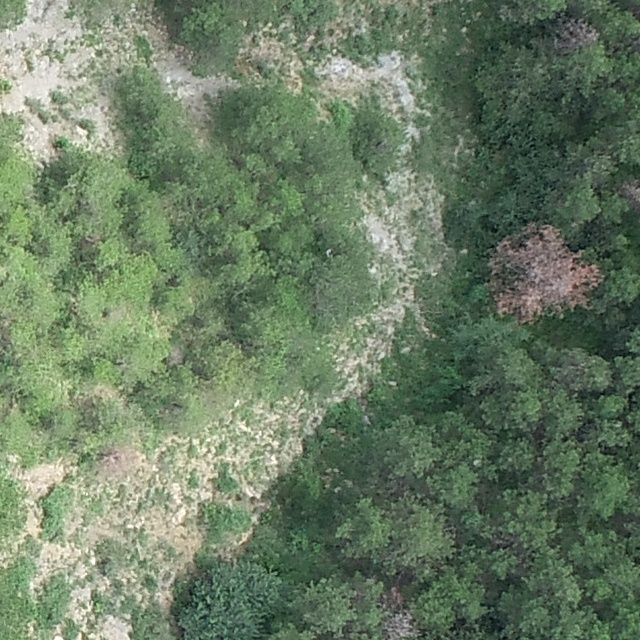unhealthy: (493, 215, 602, 321), (554, 17, 601, 51), (382, 611, 416, 640), (619, 176, 640, 212), (169, 344, 186, 366)
